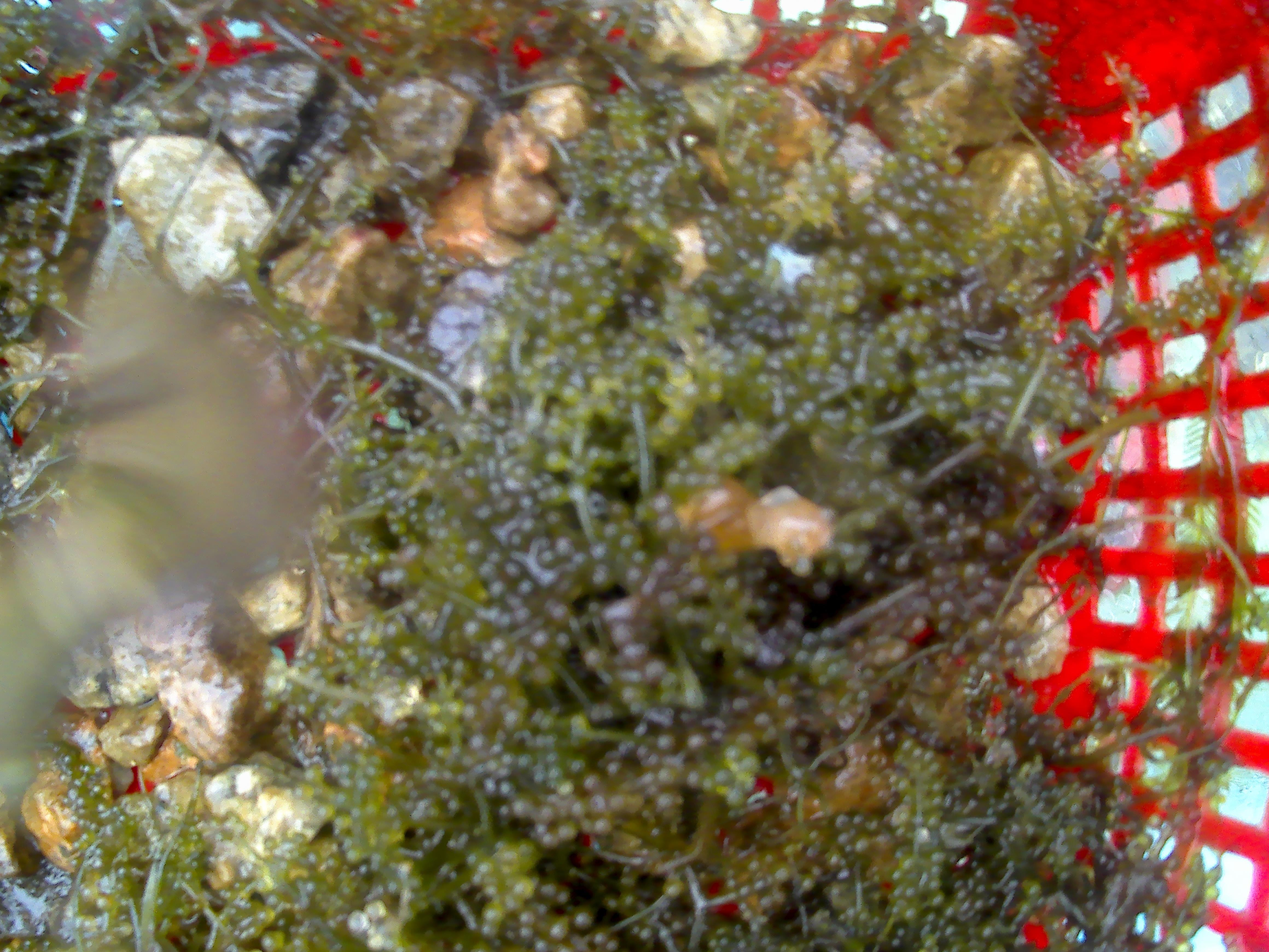Darkening: (542, 597, 574, 624), (551, 535, 580, 559), (622, 644, 649, 669), (467, 730, 491, 758), (978, 418, 1007, 441), (644, 661, 668, 688), (652, 730, 677, 755), (526, 629, 555, 650), (611, 624, 635, 648), (706, 239, 729, 264), (766, 327, 788, 353), (687, 575, 711, 598), (743, 210, 768, 232), (656, 590, 682, 611), (595, 565, 617, 589), (1213, 227, 1237, 249), (931, 203, 955, 225), (583, 772, 608, 793), (896, 471, 921, 492), (867, 223, 889, 246), (731, 187, 752, 211), (984, 532, 1005, 556), (495, 493, 517, 515), (515, 579, 537, 601), (721, 207, 742, 230), (584, 650, 607, 671), (651, 495, 674, 516), (605, 761, 628, 782), (795, 231, 816, 253), (508, 530, 530, 551), (897, 172, 918, 194), (461, 706, 483, 727), (799, 85, 818, 109), (772, 693, 793, 714), (503, 562, 525, 582), (409, 403, 432, 422), (655, 558, 679, 576), (539, 550, 559, 571), (891, 197, 911, 218), (308, 191, 329, 211), (802, 845, 822, 865), (696, 535, 715, 556), (938, 177, 957, 198), (424, 348, 446, 366), (733, 697, 751, 719), (768, 300, 787, 320), (850, 638, 868, 659), (976, 616, 993, 638), (892, 556, 912, 574), (825, 852, 843, 872), (513, 608, 534, 624), (641, 583, 659, 601), (789, 600, 807, 618), (784, 619, 802, 637), (782, 713, 800, 731), (860, 572, 878, 590), (812, 581, 830, 599), (753, 712, 773, 728), (932, 501, 949, 519), (937, 600, 958, 614), (939, 621, 956, 638), (1007, 716, 1024, 733), (575, 912, 592, 929), (632, 549, 649, 566), (1003, 642, 1021, 658), (293, 213, 308, 232), (1027, 713, 1043, 730), (952, 878, 968, 895), (1026, 735, 1041, 752), (930, 564, 948, 578), (956, 888, 970, 906), (883, 731, 899, 746), (979, 304, 995, 319), (947, 528, 961, 545), (885, 251, 902, 265), (960, 568, 978, 581), (1059, 747, 1072, 763), (973, 899, 986, 915), (819, 100, 833, 114), (803, 632, 817, 646), (689, 737, 704, 750), (1037, 73, 1050, 88), (382, 393, 397, 405), (1109, 178, 1120, 194), (1028, 29, 1042, 41), (945, 344, 959, 356), (1022, 18, 1035, 30), (1020, 95, 1032, 108), (1052, 739, 1064, 752), (398, 408, 412, 419), (950, 321, 961, 333), (1030, 69, 1041, 79)
Harvestable: (510, 876, 536, 899), (499, 845, 521, 871), (574, 332, 597, 356), (551, 262, 574, 285), (575, 278, 598, 299), (565, 755, 588, 776), (46, 287, 70, 307), (252, 905, 276, 925), (583, 304, 605, 325), (548, 321, 569, 342), (795, 324, 816, 345), (699, 633, 720, 654), (794, 275, 814, 297), (705, 382, 724, 404), (806, 304, 828, 323), (811, 277, 830, 299), (692, 447, 715, 465), (839, 295, 860, 314), (662, 472, 684, 490), (484, 903, 506, 921), (605, 239, 625, 258), (586, 225, 605, 245), (962, 388, 981, 408), (740, 421, 760, 440), (723, 452, 741, 473), (811, 346, 829, 367), (702, 365, 725, 381), (918, 305, 937, 324), (262, 932, 281, 951), (804, 191, 822, 211), (839, 271, 857, 291), (576, 235, 595, 253), (533, 340, 552, 358), (900, 306, 919, 324), (484, 883, 504, 900), (913, 325, 931, 343), (719, 421, 737, 439), (812, 256, 830, 274), (781, 350, 799, 368), (547, 763, 565, 781), (685, 471, 703, 489), (741, 445, 758, 463), (0, 0, 16, 19), (885, 313, 904, 329), (912, 369, 928, 388), (725, 434, 742, 451), (607, 103, 622, 122), (896, 777, 911, 796), (597, 290, 613, 307), (678, 457, 694, 474), (480, 863, 496, 880), (1205, 303, 1221, 320), (633, 106, 648, 124), (27, 292, 43, 308), (872, 321, 889, 336), (901, 858, 916, 875), (708, 436, 725, 451), (929, 891, 944, 907), (901, 906, 916, 921), (27, 280, 42, 295), (901, 738, 915, 754), (926, 877, 939, 893), (930, 779, 944, 793), (892, 886, 907, 899), (931, 853, 945, 866), (930, 799, 944, 812), (912, 745, 924, 760), (921, 752, 934, 765), (535, 939, 548, 952), (927, 761, 940, 773), (929, 865, 943, 876), (906, 888, 917, 901), (929, 816, 938, 827)
Whitening: (664, 359, 693, 387), (362, 899, 387, 924), (348, 911, 371, 934), (677, 384, 700, 403), (795, 175, 815, 193), (881, 212, 899, 231), (792, 159, 811, 176), (366, 934, 382, 951), (914, 827, 929, 842), (71, 110, 85, 124)
